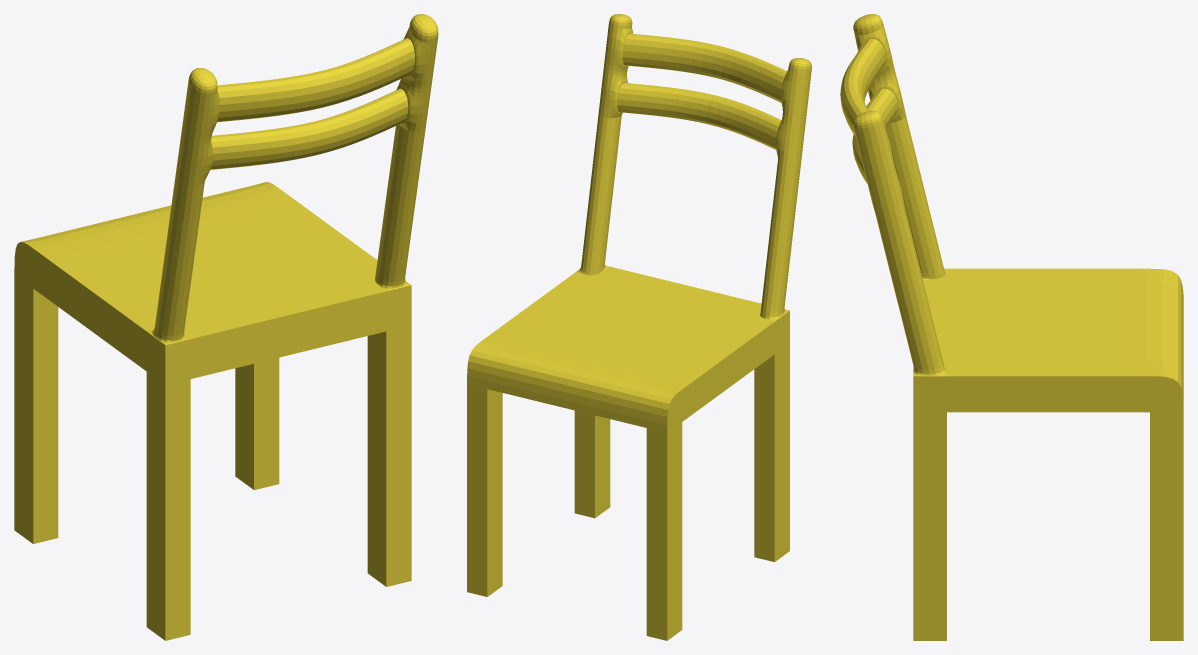
File: bench_table_yellow.fbx
The picture shows the model from 3 angles, left to right: view 1: azimuth 30°, elevation 25°; view 2: azimuth 150°, elevation 25°; view 3: azimuth 270°, elevation 25°; orthographic projection. The views are drawn at different scales.
Parts seen in each view (by area): view 1: bench_furniture.002; view 2: bench_furniture.002; view 3: bench_furniture.002.
Part boxes in pixels (x1,y1,x2,y2): bench_furniture.002: [14, 14, 438, 640]; bench_furniture.002: [467, 14, 811, 640]; bench_furniture.002: [840, 14, 1183, 640].
Bounding box in the file's own units: 45.32 × 103 × 61.17.
